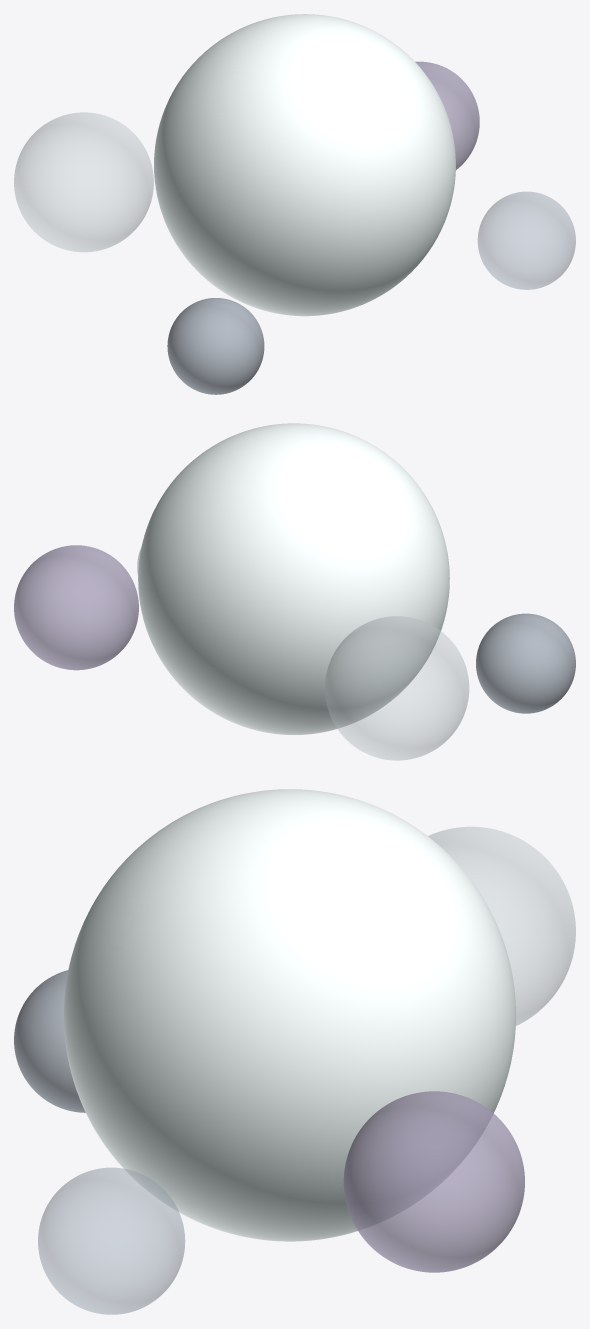
File: glass.glb
The picture shows the model from 3 angles, top to bottom: view 1: azimuth 30°, elevation 25°; view 2: azimuth 150°, elevation 25°; view 3: azimuth 270°, elevation 25°; orthographic projection. The views are drawn at different scales.
Parts seen in each view (by area): view 1: Material_003-material, Material_005-material, Material_007-material, Material_006-material, Material_004-material; view 2: Material_003-material, Material_005-material, Material_004-material, Material_006-material; view 3: Material_003-material, Material_004-material, Material_007-material, Material_005-material, Material_006-material.
Part boxes in pixels (<box>): Material_003-material: <box>154,14,455,316</box>; Material_005-material: <box>14,112,153,251</box>; Material_007-material: <box>478,192,575,289</box>; Material_006-material: <box>167,298,264,394</box>; Material_004-material: <box>415,61,479,169</box>; Material_003-material: <box>138,423,449,734</box>; Material_005-material: <box>325,616,468,760</box>; Material_004-material: <box>14,545,138,670</box>; Material_006-material: <box>476,613,575,713</box>; Material_003-material: <box>63,789,515,1241</box>; Material_004-material: <box>343,1091,524,1272</box>; Material_007-material: <box>38,1168,184,1314</box>; Material_005-material: <box>428,827,575,1025</box>; Material_006-material: <box>14,970,85,1112</box>.
Size of what is drawn, in the model's own units: 8.27 by 4.97 by 6.17.
Materials: 5 (2 with a texture image).
